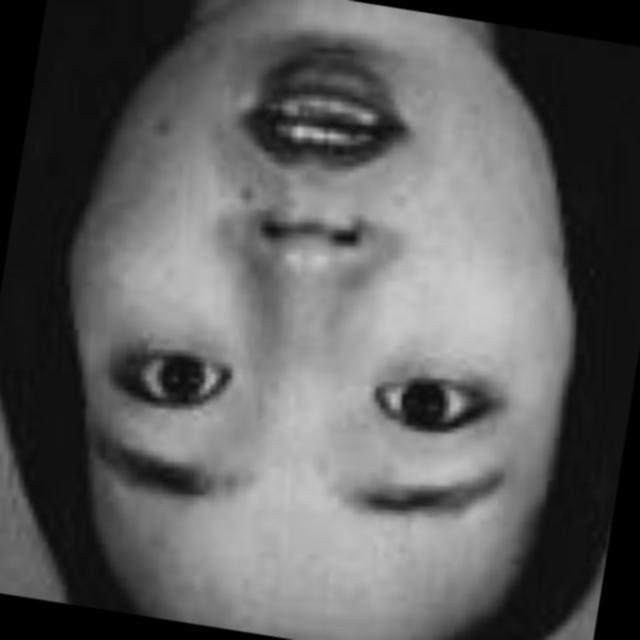surprise: (23, 0, 596, 640)
